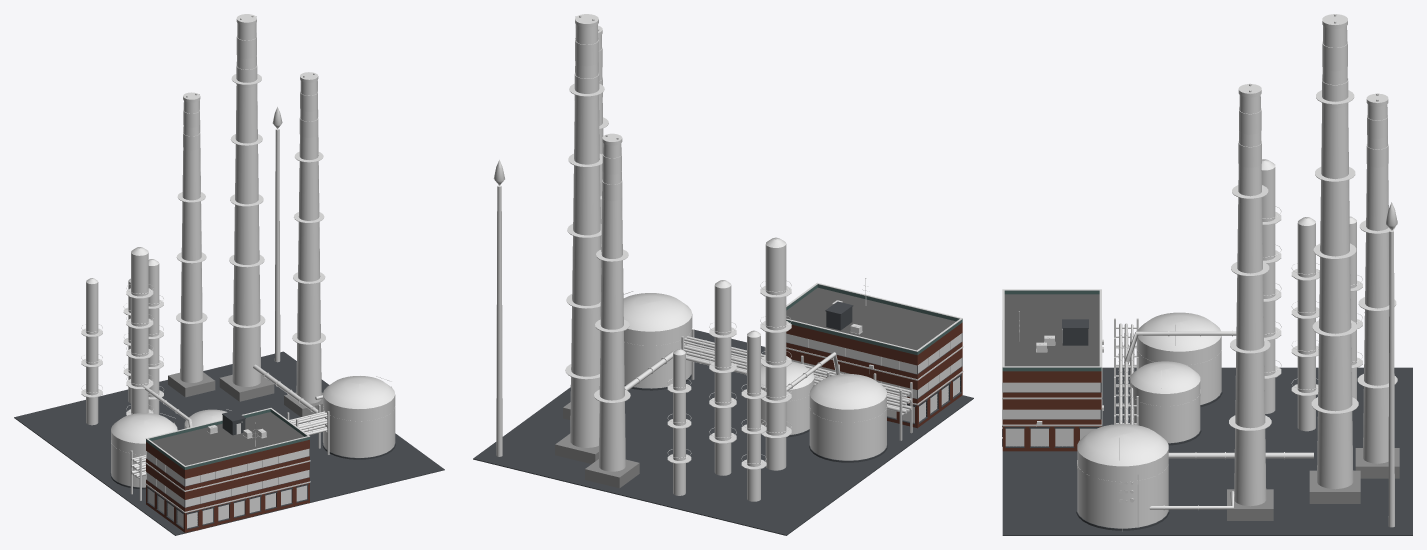
The model's file is LM_FR_EmberRefinery.fbx.
3 views of the same model, side by side, from view 1: azimuth 30°, elevation 25°; view 2: azimuth 150°, elevation 25°; view 3: azimuth 270°, elevation 25° (orthographic). The views are drawn at different scales.
Visible parts, largest first — view 1: LM_FR_EmberRefinery_LOD0; view 2: LM_FR_EmberRefinery_LOD0; view 3: LM_FR_EmberRefinery_LOD0.
Part boxes in pixels (left/top/right/bottom): LM_FR_EmberRefinery_LOD0: left=14, top=14, right=444, bottom=535; LM_FR_EmberRefinery_LOD0: left=473, top=14, right=973, bottom=535; LM_FR_EmberRefinery_LOD0: left=1002, top=14, right=1412, bottom=535.
Size of what is drawn, in the model's own units: 56 by 74.25 by 58.08.
